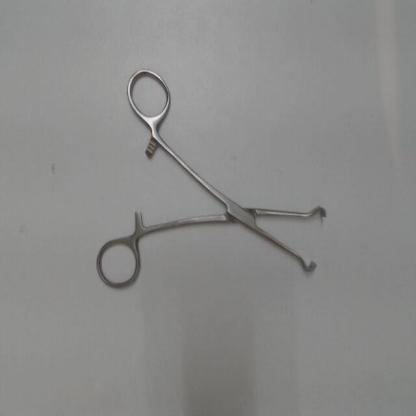Babcock Tissue Forceps: (93, 62, 331, 296)
